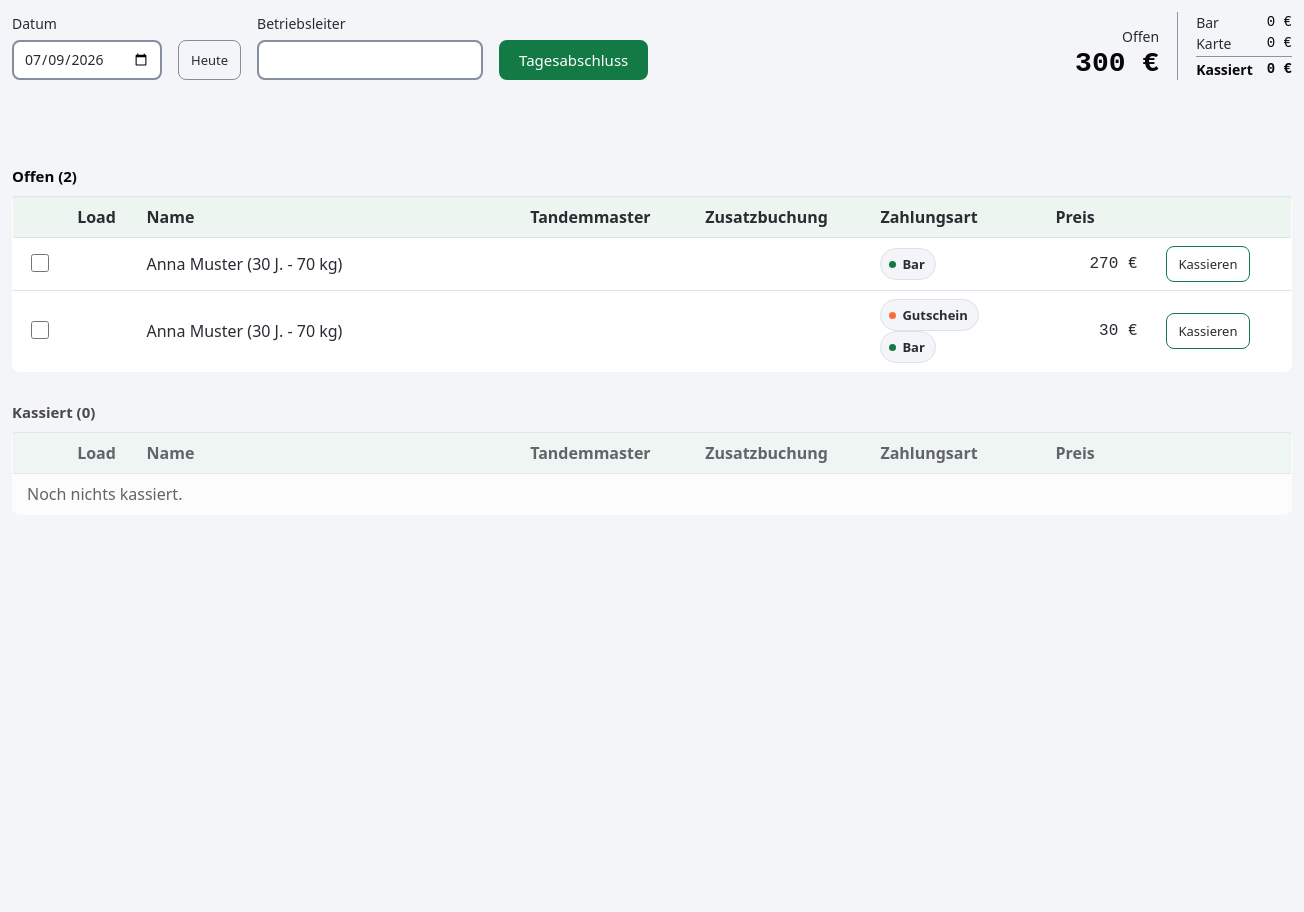
Test: List › Export-Warnung › names how many of the open tandems are on a voucher
Click the button "Tagesabschluss".
click(574, 60)  # box [499,40,648,80]
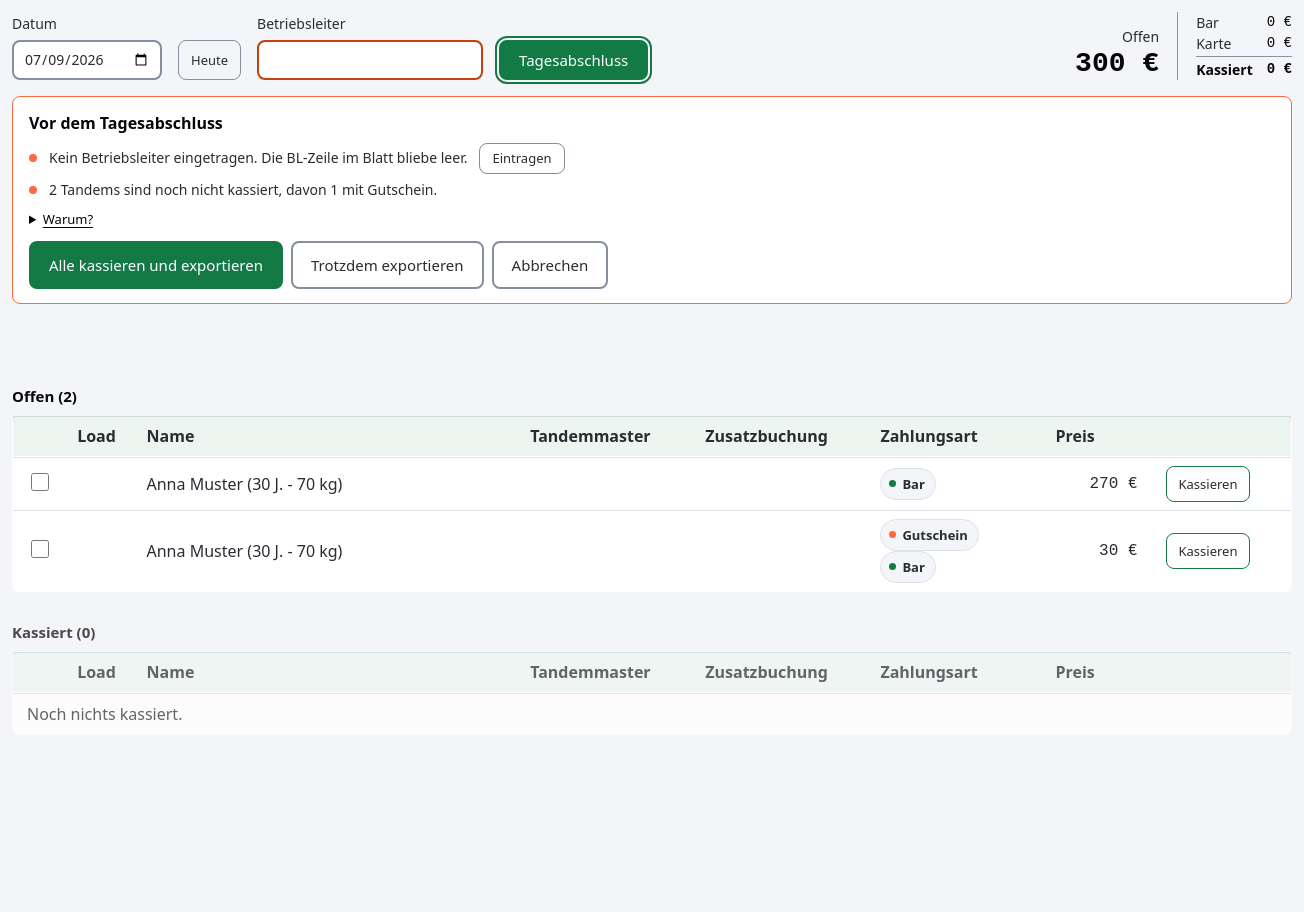
Expected: the text "2 Tandems sind noch nicht kassiert, davon 1 mit Gutschein." is shown, [49,180,437,200]
